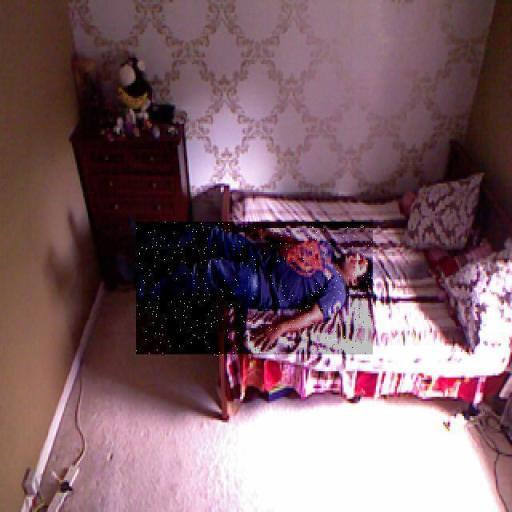Fall: (136, 222, 373, 357)
